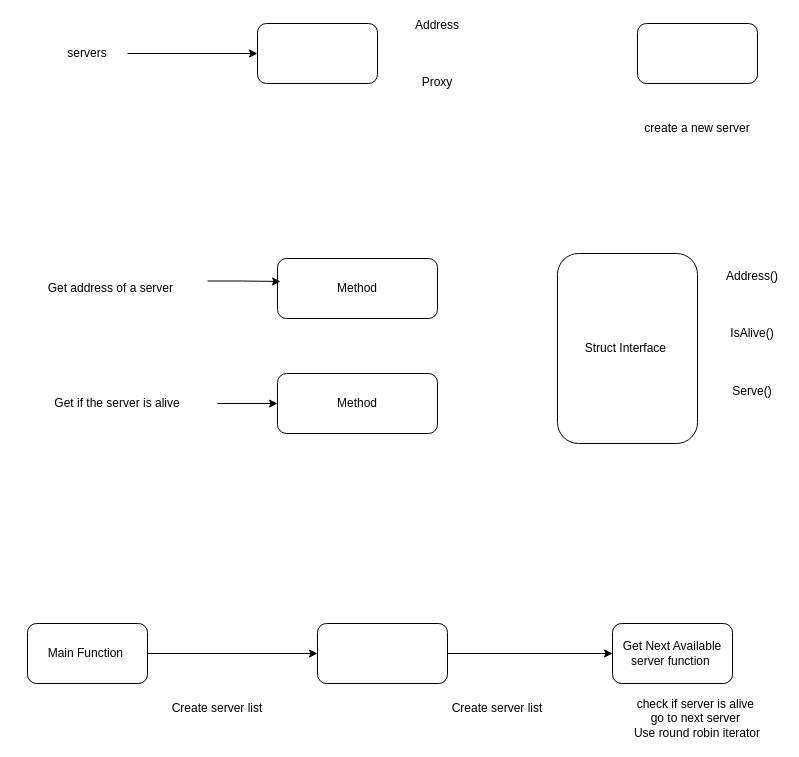
The diagram is 799 pixels wide and 757 high, and some of its shapes have lost their labels. The shapes that lost their labels are listed below. From the top down, each one's centre as x and y in pixels, then its label:
At pixel 317 53: "struct".
At pixel 697 53: "function".
At pixel 382 653: "Server Proxy Fucntion".
